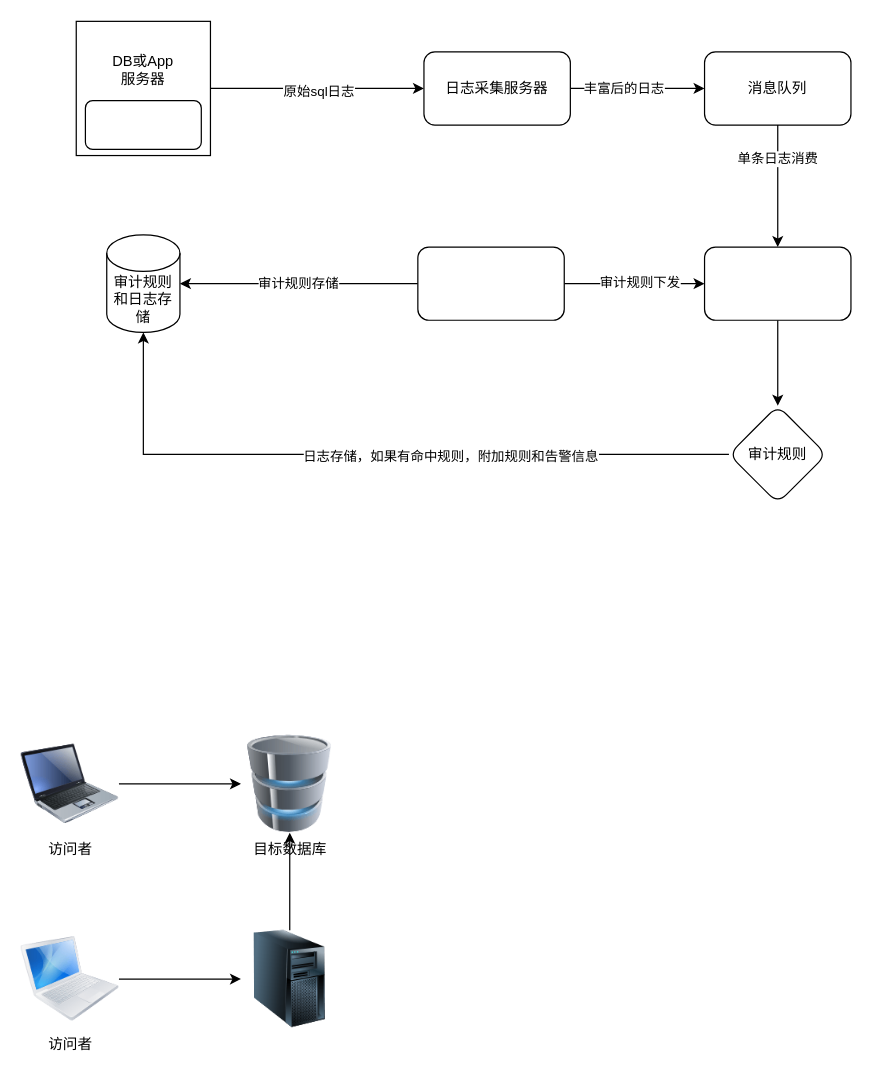
This 872x1075 diagram has some shape labels left out. The box of each missing label's shape, as (x1, y1, x2, y2) in pixels:
业务服务器: (240, 930, 338, 1027)
审计控制台: (417, 246, 564, 320)
日志分析器: (703, 246, 851, 320)
流量抓取程序: (84, 99, 201, 149)
